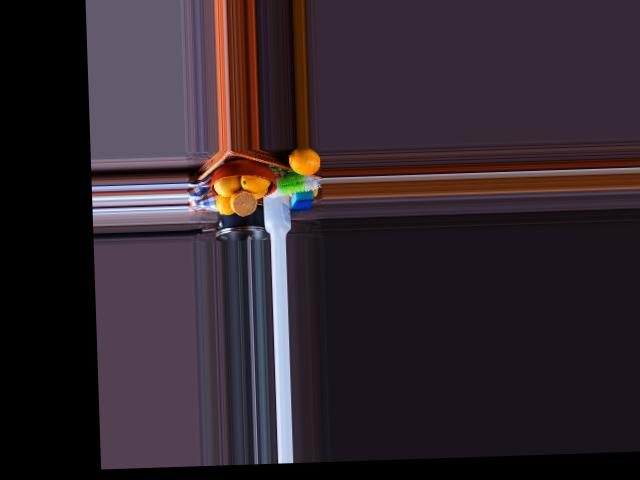lemon: (286, 147, 320, 175)
